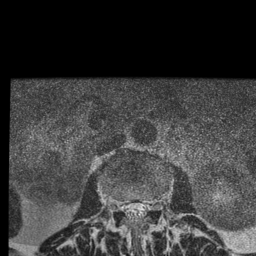CCS_normal: (132, 195, 139, 227)
LFS_normal: (147, 193, 156, 217)
LLS_normal: (140, 197, 147, 221)
RFS_normal: (115, 194, 125, 219)
RLS_normal: (124, 197, 132, 222)
